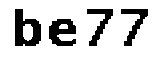7: (118, 1, 157, 48), (81, 1, 116, 51)
b: (12, 7, 44, 49)
e: (45, 14, 79, 53)
